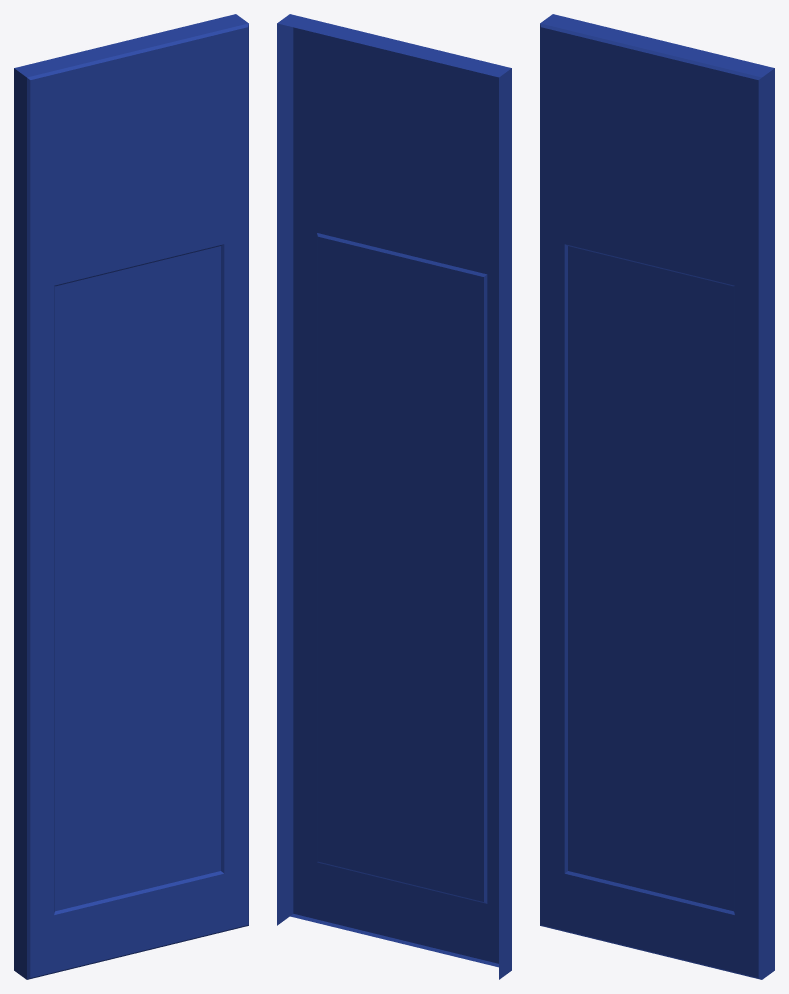
The model's file is FacadeFrame02_7.FBX.
3 views of the same model, side by side, from view 1: azimuth 30°, elevation 25°; view 2: azimuth 150°, elevation 25°; view 3: azimuth 330°, elevation 25° (orthographic).
Parts seen in each view (by area): view 1: FacadeFrame02_7; view 2: FacadeFrame02_7; view 3: FacadeFrame02_7.
Boxes of the visible parts, x1,y1,x2,y2 form: FacadeFrame02_7: (14, 14, 248, 979); FacadeFrame02_7: (277, 14, 511, 979); FacadeFrame02_7: (540, 14, 774, 979).
Bounding box in the file's own units: 100 × 388 × 11.
